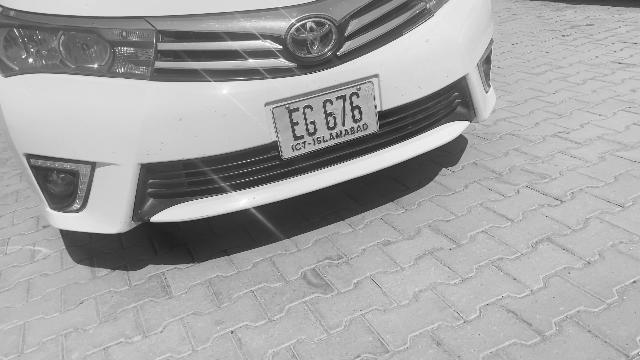Number: (282, 87, 369, 145)
